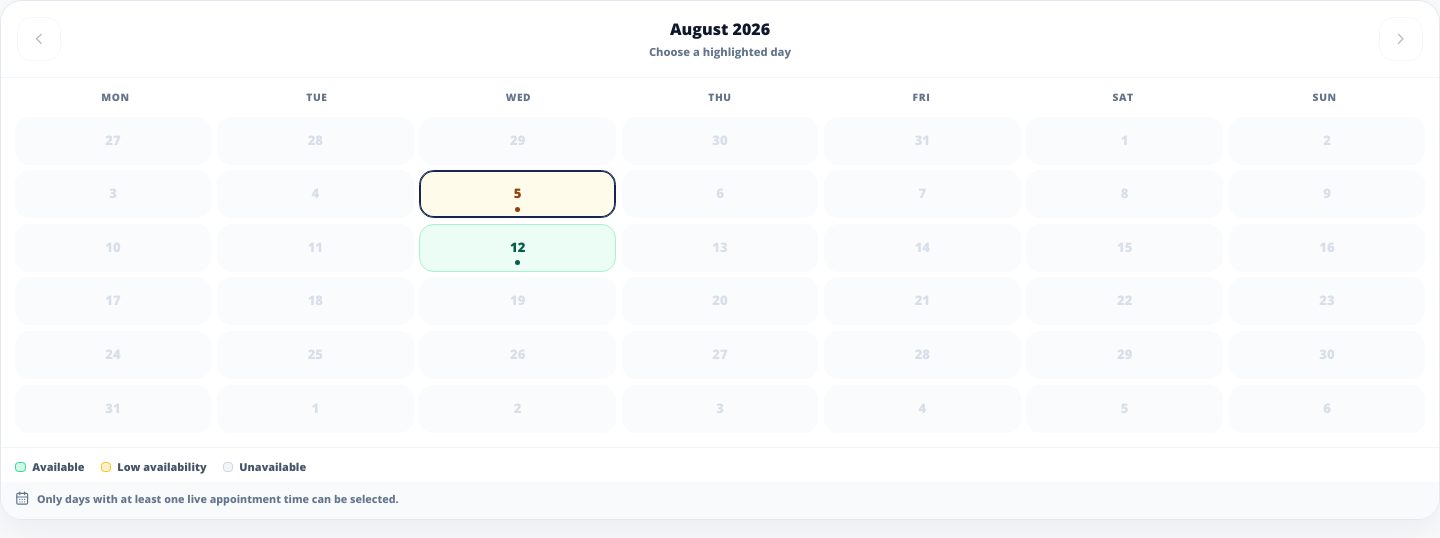
Test case: booking assistance controls › shows styled availability hints and opens the selected day inline
The width and height of the screenshot is (1440, 538).
Expected: the button named "Wednesday 12 August 2026, 6 appointment times available" is enabled, x1=419 y1=224 x2=616 y2=272
Expected: the button named "Thursday 6 August 2026, no appointment times available" is disabled, x1=622 y1=170 x2=818 y2=218
Click the button named "Wednesday 5 August 2026, low availability, 2 times left": x=518, y=194 x1=419 y1=170 x2=616 y2=218
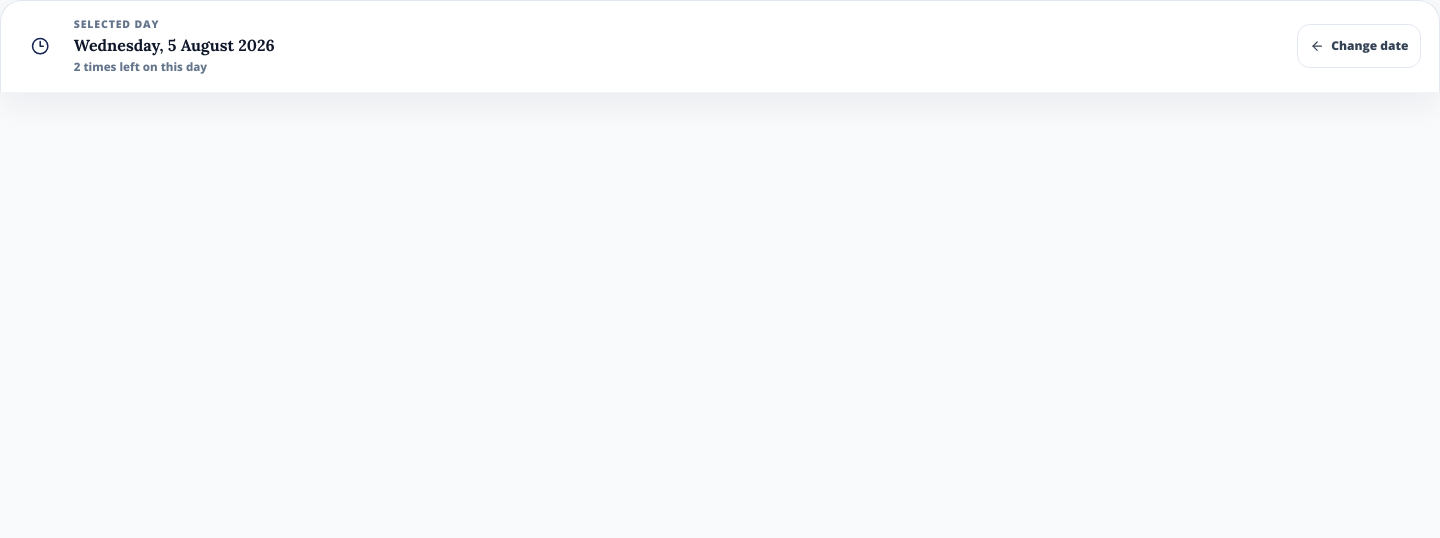
Expected: the text "Selected day" is shown, x1=74 y1=17 x2=160 y2=31
Expected: the heading "Wednesday, 5 August 2026" is shown, x1=74 y1=35 x2=275 y2=55
Expected: the button "Change date" is shown, x1=1296 y1=24 x2=1421 y2=68
